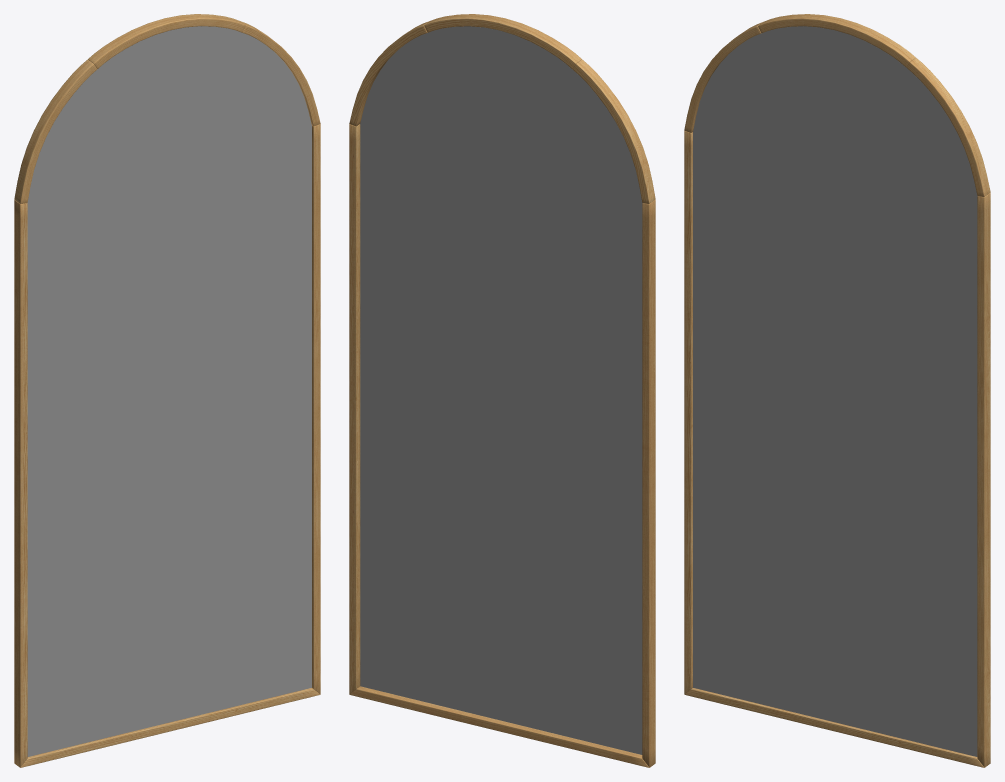
The model's file is decor-mirror-01.glb.
3 renders of one model, left to right at view 1: azimuth 30°, elevation 25°; view 2: azimuth 150°, elevation 25°; view 3: azimuth 330°, elevation 25°, orthographic.
Visible parts, largest first — view 1: Shape002_Standardmaterial_0, Rectangle003_Standardmaterial_0 (×2); view 2: Shape002_Standardmaterial_0, Rectangle003_Standardmaterial_0 (×2); view 3: Shape002_Standardmaterial_0, Rectangle003_Standardmaterial_0 (×2).
Part boxes in pixels (x1,y1,x2,y2): Shape002_Standardmaterial_0: (27, 26, 311, 756); Rectangle003_Standardmaterial_0 (×2): (14, 14, 320, 767); Shape002_Standardmaterial_0: (360, 26, 642, 754); Rectangle003_Standardmaterial_0 (×2): (349, 14, 655, 767); Shape002_Standardmaterial_0: (693, 26, 977, 756); Rectangle003_Standardmaterial_0 (×2): (684, 14, 990, 767).
Bounding box in the file's own units: 0.82 × 1.85 × 0.03.
Materials: 3 (2 with a texture image).
